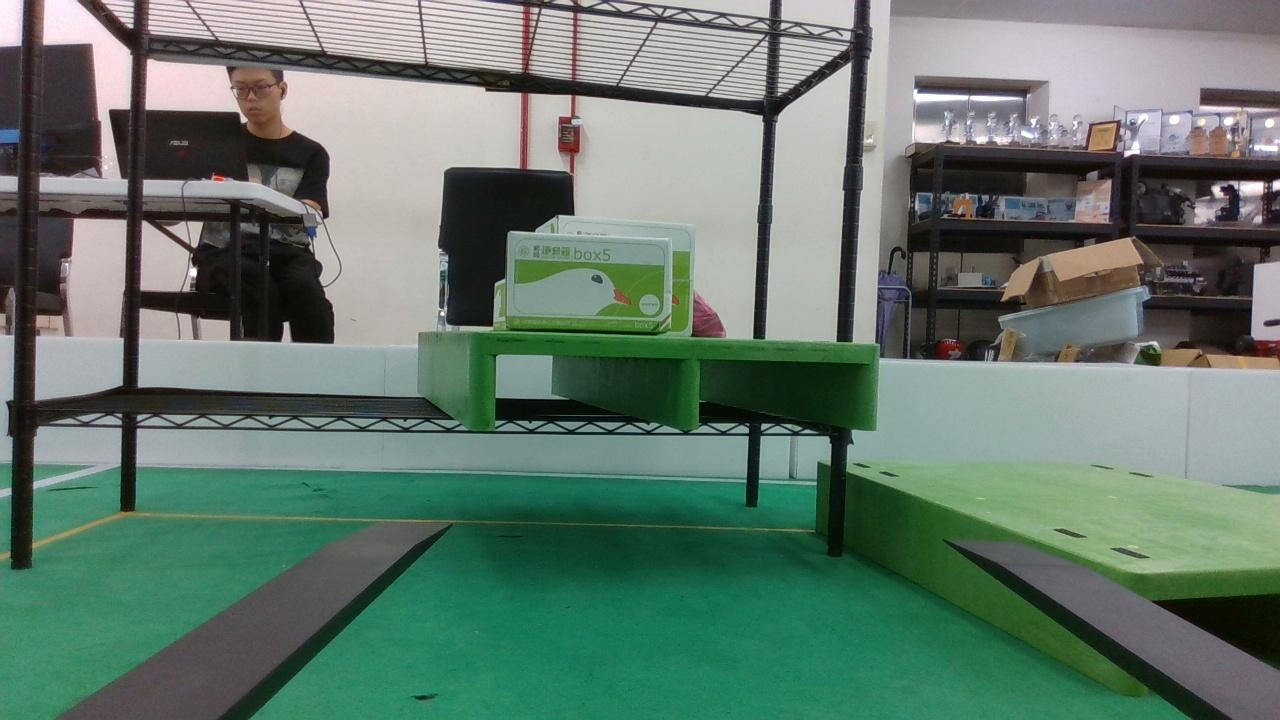Pallet: (464, 330, 881, 433)
